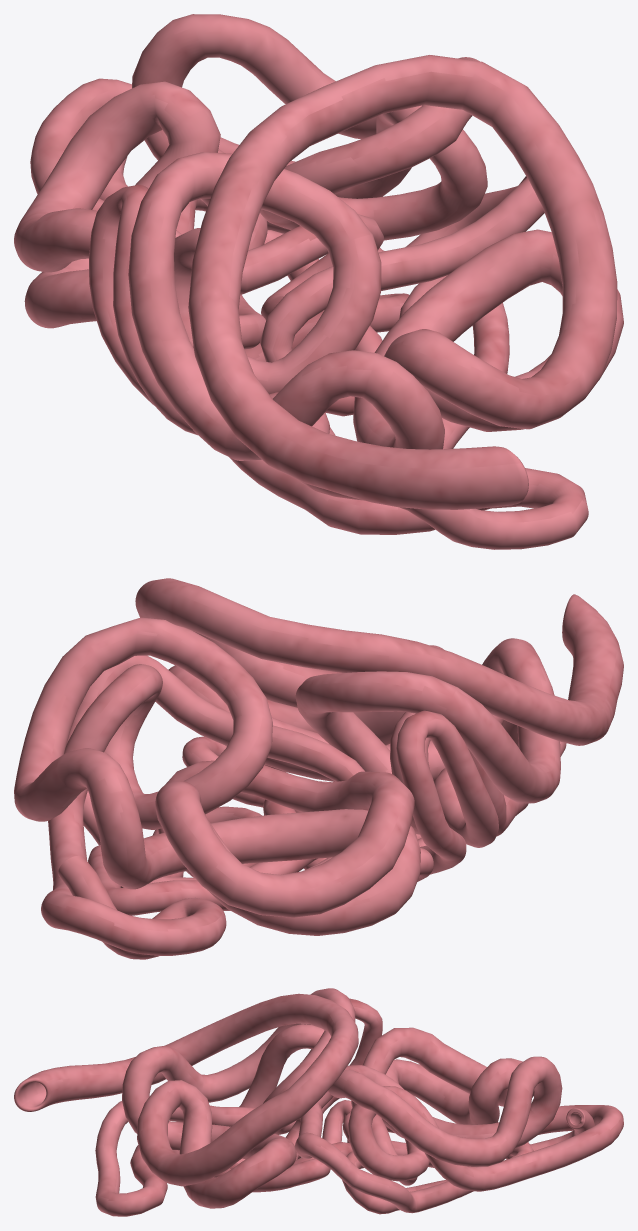
File: Small Intestine.glb
3 views of the same model, one above another, from view 1: azimuth 30°, elevation 25°; view 2: azimuth 150°, elevation 25°; view 3: azimuth 270°, elevation 25° (orthographic). The views are drawn at different scales.
Visible parts, largest first — view 1: SmallIntestine; view 2: SmallIntestine; view 3: SmallIntestine.
Part boxes in pixels (x1,y1,x2,y2): SmallIntestine: (14, 14, 623, 549); SmallIntestine: (14, 578, 623, 959); SmallIntestine: (14, 988, 623, 1216).
Bounding box in the file's own units: 89.83 × 59.7 × 172.
Materials: 1 (1 with a texture image).
